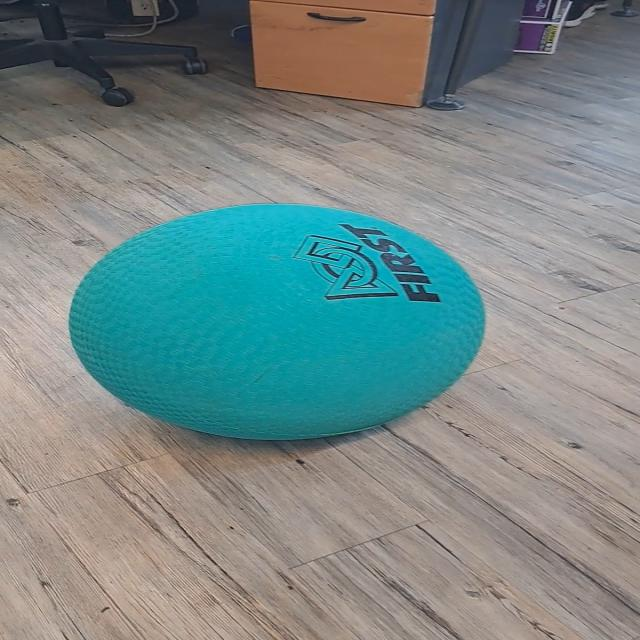ALGAE: (66, 202, 487, 442)
